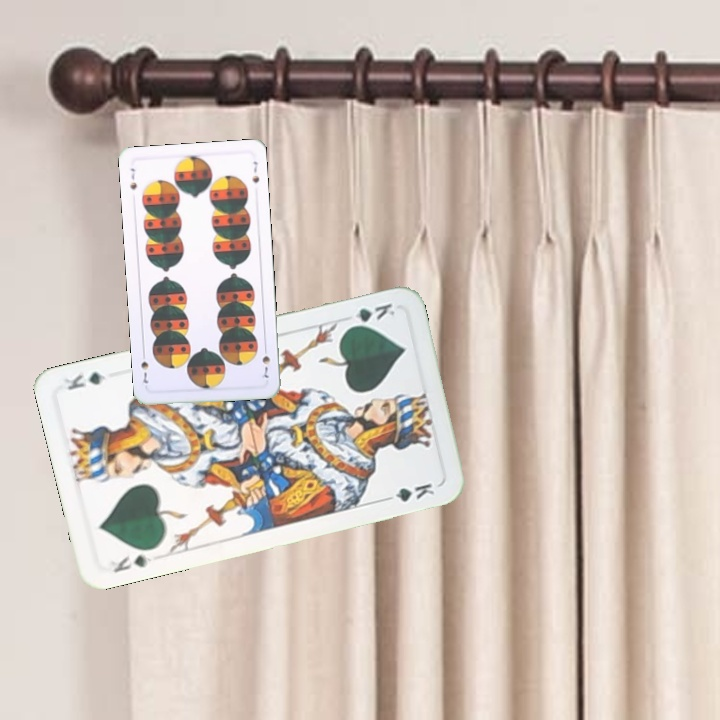GK: (343, 299, 398, 331), (109, 550, 154, 576)
S7: (258, 342, 273, 381), (126, 164, 139, 192)
